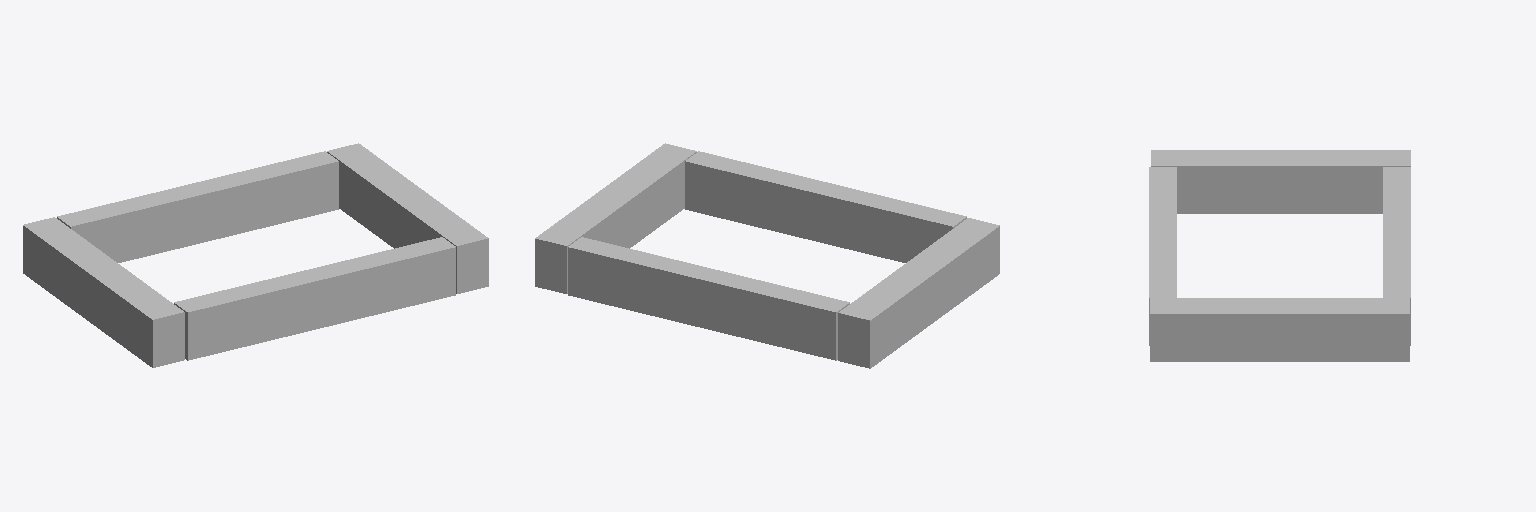
The model's file is maze2.obj.
3 views of the same model, side by side, from view 1: azimuth 30°, elevation 25°; view 2: azimuth 150°, elevation 25°; view 3: azimuth 270°, elevation 25° (orthographic).
Visible parts, largest first — view 1: Cube.003, Cube.004, Cube.001, Cube.002; view 2: Cube.004, Cube.003, Cube.001, Cube.002; view 3: Cube.002, Cube.001, Cube.003, Cube.004.
Part boxes in pixels (left/top/right/bottom): Cube.003: left=174, top=237, right=455, bottom=360; Cube.004: left=57, top=151, right=338, bottom=262; Cube.001: left=23, top=217, right=184, bottom=367; Cube.002: left=327, top=143, right=488, bottom=293; Cube.004: left=568, top=237, right=849, bottom=360; Cube.003: left=685, top=151, right=966, bottom=262; Cube.001: left=838, top=218, right=999, bottom=368; Cube.002: left=535, top=143, right=696, bottom=293; Cube.002: left=1150, top=298, right=1409, bottom=361; Cube.001: left=1151, top=150, right=1410, bottom=213; Cube.003: left=1149, top=167, right=1176, bottom=345; Cube.004: left=1383, top=167, right=1410, bottom=345.
Size of the model in its own units: 14.57 by 2.01 by 9.85.